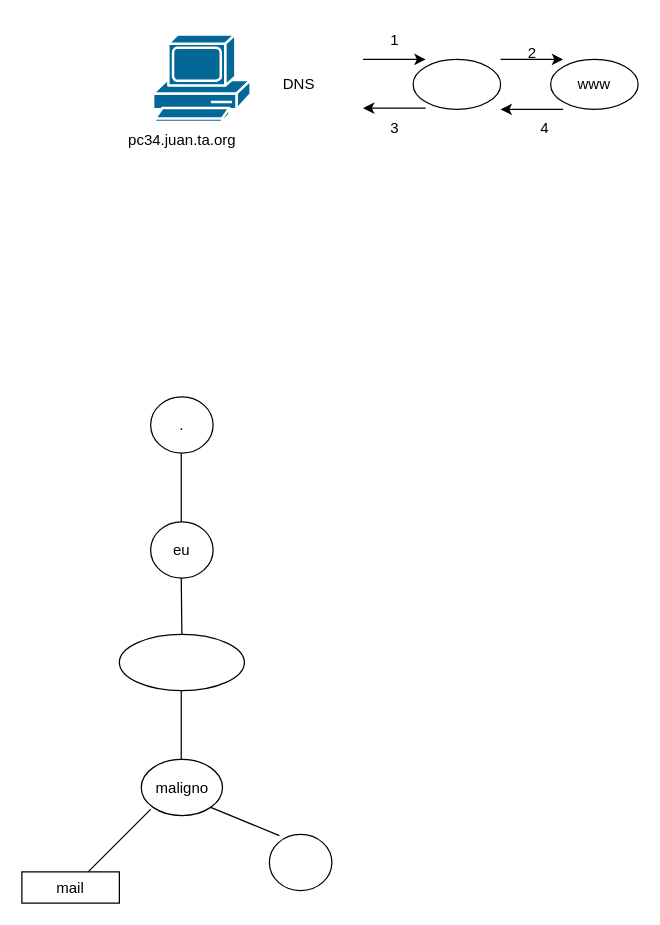
Some shapes in this 660 by 925 pixel diagram are drawn without their labels. Here are the shapes that lost their labels. From the top down, the centre of each, then its label:
At pixel 456 83: "sevilla".
At pixel 181 662: "motorizado".
At pixel 300 862: "duende".
